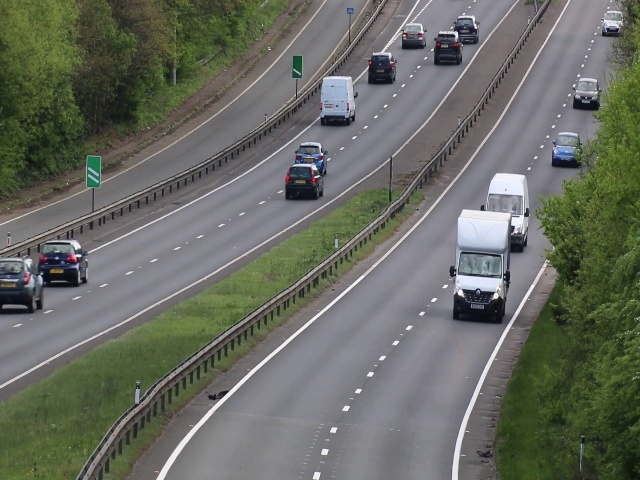car: (453, 205, 509, 325), (485, 170, 528, 254), (34, 239, 90, 285), (1, 254, 42, 313), (319, 75, 358, 125), (284, 163, 324, 201), (550, 127, 580, 169), (294, 140, 328, 174), (432, 30, 464, 66), (366, 50, 399, 84), (399, 19, 428, 51), (575, 76, 599, 110), (455, 15, 480, 44), (600, 9, 624, 35)
